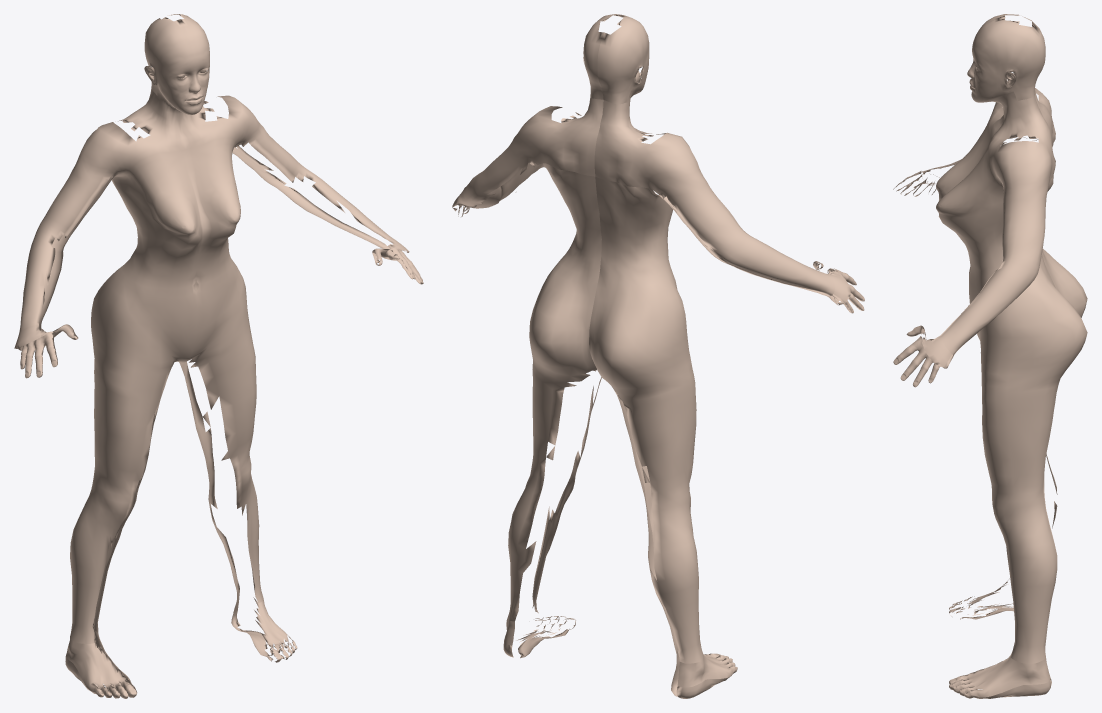
Rendered from inkverse-female.glb.
3 views of the same model, side by side, from view 1: azimuth 30°, elevation 25°; view 2: azimuth 150°, elevation 25°; view 3: azimuth 270°, elevation 25° (orthographic).
Parts seen in each view (by area): view 1: Body; view 2: Body; view 3: Body.
Boxes of the visible parts, box(x1,y1,x2,y2) form: Body: box(14, 14, 423, 698); Body: box(452, 14, 864, 698); Body: box(893, 14, 1087, 698).
Size of the model in its own units: 1.2 by 1.86 by 0.5147.
